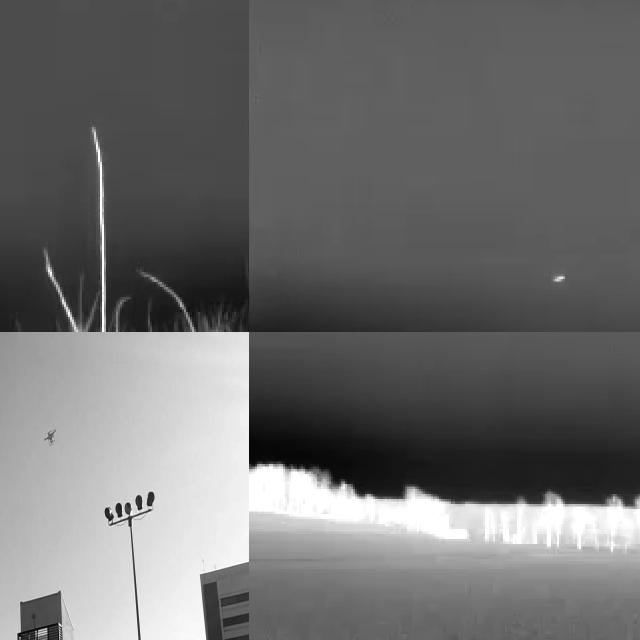1: (544, 268, 576, 300)
drone: (42, 424, 58, 449)
